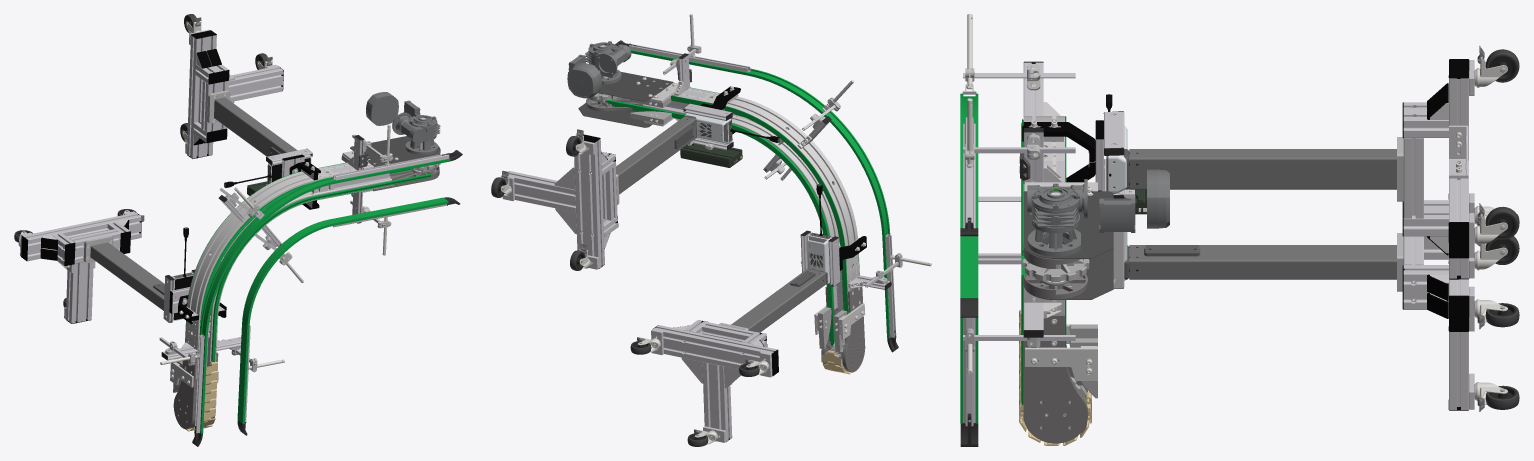
The model's file is aluflex_target_exact.glb.
3 views of the same model, side by side, from view 1: azimuth 30°, elevation 25°; view 2: azimuth 150°, elevation 25°; view 3: azimuth 270°, elevation 25° (orthographic). The views are drawn at different scales.
Visible parts, largest first — view 1: 804-125-Linak_DL5_with_bracket:1 (×2), AC645086-1:1, 804-125-104590L-5-500:1 (×2), 804-125-904516B-780-500:1, 804-125-30-noha-1-104590L-1-300:1 (×2), 804-125-904516B-780-1-500:2, 804-125-pohon_F1:1, ARD 12160-D:1 (×2), 804-125-901020-150-1-500:2, 804-125-30-noha-1-104590L-5-200:1 (×2), Krycí plech hlavy:2, 804-125_108692_16-250:1 (+4 smaller); view 2: 804-125-Linak_DL5_with_bracket:1 (×2), 804-125-104590L-5-500:1 (×2), 804-125-30-noha-1-104590L-1-300:1 (×2), AC645086-1:1, 804-125-904516B-780-1-500:2, 804-125-pohon_F1:1, ARD 12160-D:1 (×2), 804-125-901020-150-1-500:1, 804-125-901020-150-2-500:2, AC645086-2:1, 804-125-30-noha-1-104590L-5-200:1 (×2), Krycí plech hlavy:2 (+8 smaller); view 3: 804-125-Linak_DL5_with_bracket:1 (×2), 804-125-pohon_F1:1, ARS 12160-D:1, 804-125-30-noha-1-104590L-4-01-100:2 (×2), 804-125-30-noha-1-104590L-1-300:1 (×2), 804-125-30-noha-1-104590L-5-200:1 (×2), Krycí plech hlavy:2, 804-125-904516B-780-500:1, 804-3-101803-130-1: (×3), Držák vodítka:1, 804-125-104590L-5-500:1, 804-125-101845-11-176:1 (×2) (+12 smaller).
Boxes of the visible parts, x1=… form: 804-125-Linak_DL5_with_bracket:1 (×2): x1=90, y1=97, x2=311, y2=320; AC645086-1:1: x1=186, y1=167, x2=336, y2=342; 804-125-104590L-5-500:1 (×2): x1=23, y1=35, x2=216, y2=261; 804-125-904516B-780-500:1: x1=237, y1=197, x2=448, y2=423; 804-125-30-noha-1-104590L-1-300:1 (×2): x1=65, y1=66, x2=283, y2=323; 804-125-904516B-780-1-500:2: x1=200, y1=158, x2=450, y2=433; 804-125-pohon_F1:1: x1=366, y1=92, x2=440, y2=155; ARD 12160-D:1 (×2): x1=173, y1=167, x2=439, y2=429; 804-125-901020-150-1-500:2: x1=211, y1=173, x2=431, y2=408; 804-125-30-noha-1-104590L-5-200:1 (×2): x1=69, y1=80, x2=228, y2=263; Krycí plech hlavy:2: x1=350, y1=136, x2=440, y2=166; 804-125_108692_16-250:1: x1=326, y1=162, x2=393, y2=195; 804-125-Linak_DL5_with_bracket:1 (×2): x1=616, y1=113, x2=832, y2=332; 804-125-104590L-5-500:1 (×2): x1=574, y1=139, x2=777, y2=369; 804-125-30-noha-1-104590L-1-300:1 (×2): x1=508, y1=171, x2=732, y2=441; AC645086-1:1: x1=700, y1=91, x2=859, y2=275; 804-125-904516B-780-1-500:2: x1=630, y1=50, x2=890, y2=338; 804-125-pohon_F1:1: x1=567, y1=41, x2=631, y2=98; ARD 12160-D:1 (×2): x1=586, y1=97, x2=865, y2=372; 804-125-901020-150-1-500:1: x1=605, y1=99, x2=834, y2=346; 804-125-901020-150-2-500:2: x1=671, y1=95, x2=848, y2=340; AC645086-2:1: x1=731, y1=114, x2=839, y2=243; 804-125-30-noha-1-104590L-5-200:1 (×2): x1=602, y1=166, x2=755, y2=341; Krycí plech hlavy:2: x1=598, y1=72, x2=673, y2=101; 804-125-Linak_DL5_with_bracket:1 (×2): x1=1106, y1=94, x2=1396, y2=280; 804-125-pohon_F1:1: x1=1027, y1=169, x2=1169, y2=256; ARS 12160-D:1: x1=1023, y1=314, x2=1088, y2=443; 804-125-30-noha-1-104590L-4-01-100:2 (×2): x1=1403, y1=102, x2=1448, y2=309; 804-125-30-noha-1-104590L-1-300:1 (×2): x1=1449, y1=160, x2=1468, y2=409; 804-125-30-noha-1-104590L-5-200:1 (×2): x1=1403, y1=138, x2=1423, y2=264; Krycí plech hlavy:2: x1=1024, y1=191, x2=1113, y2=258; 804-125-904516B-780-500:1: x1=960, y1=236, x2=978, y2=423; 804-3-101803-130-1: (×3): x1=1023, y1=62, x2=1043, y2=329; Držák vodítka:1: x1=1025, y1=347, x2=1097, y2=380; 804-125-104590L-5-500:1: x1=1449, y1=78, x2=1468, y2=278; 804-125-101845-11-176:1 (×2): x1=1104, y1=112, x2=1124, y2=287.
Size of the model in its own units: 1.33 by 1.22 by 1.24.
